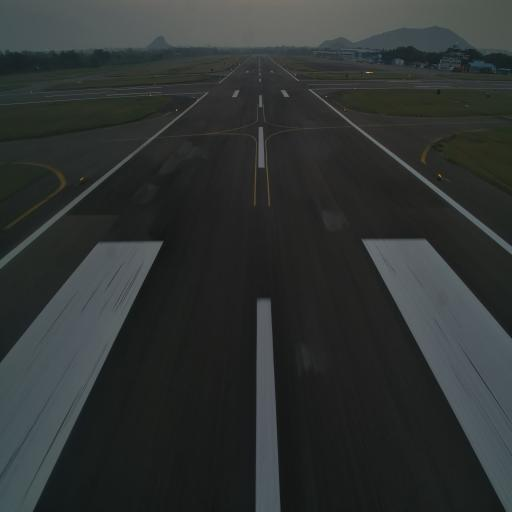on: (79, 173, 84, 184), (438, 170, 442, 182)
